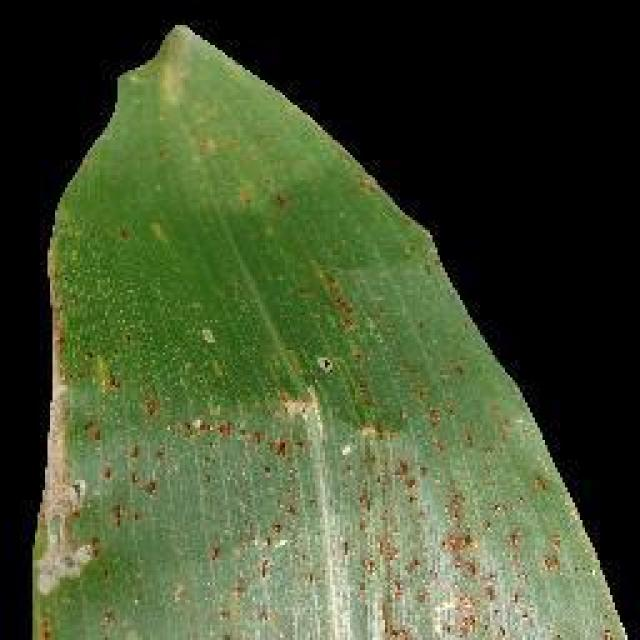Corn Common Rust: (81, 221, 640, 640)
